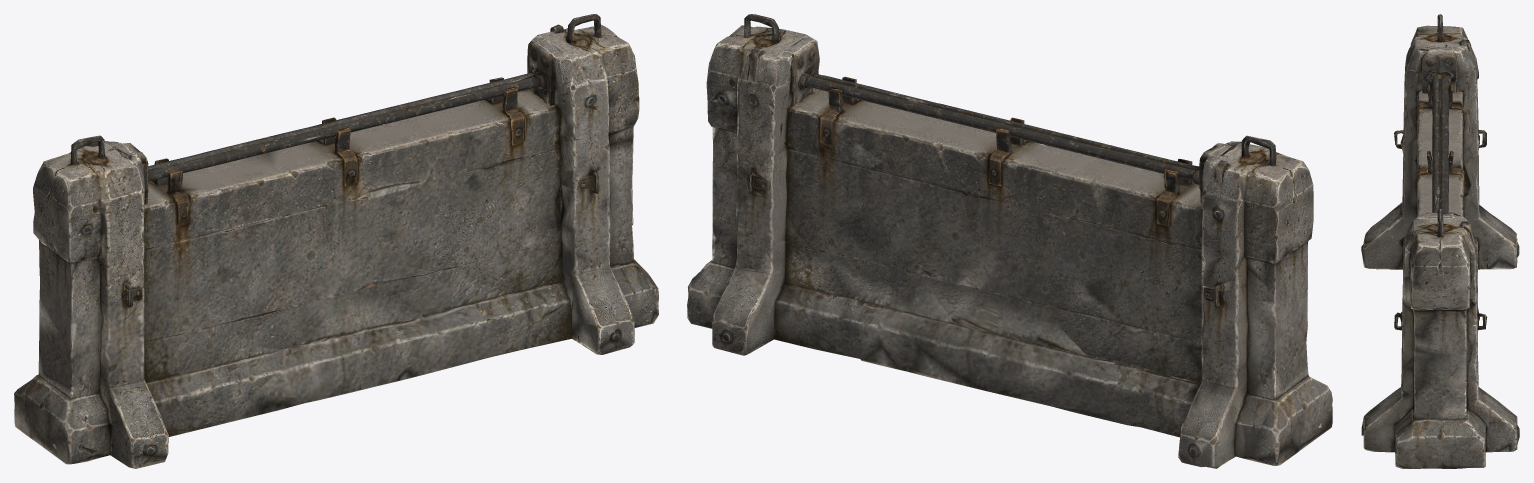
File: iron_barricade.glb
The picture shows the model from 3 angles, left to right: view 1: azimuth 30°, elevation 25°; view 2: azimuth 150°, elevation 25°; view 3: azimuth 270°, elevation 25°; orthographic projection. The views are drawn at different scales.
Parts seen in each view (by area): view 1: iron_barricade; view 2: iron_barricade; view 3: iron_barricade.
Part boxes in pixels (bbox=[...]): iron_barricade: bbox=[14, 14, 658, 468]; iron_barricade: bbox=[687, 14, 1332, 468]; iron_barricade: bbox=[1361, 14, 1519, 468].
Bounding box in the file's own units: 1.9 × 0.9129 × 0.549.
1 material, 1 textured.
